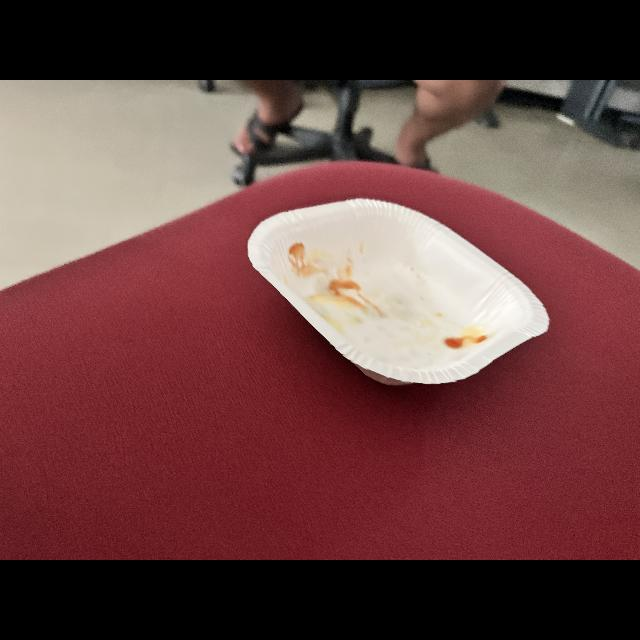cardboard_bowl: (241, 196, 564, 394)
